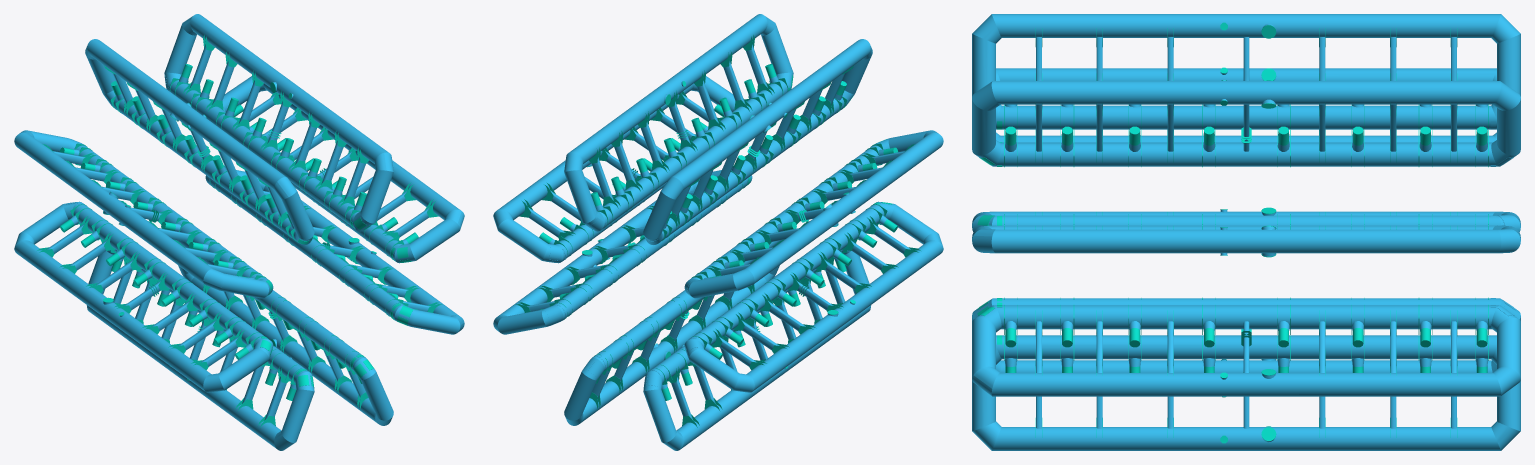
Rendered from barrel_toroid.glb.
3 renders of one model, left to right at view 1: azimuth 30°, elevation 25°; view 2: azimuth 150°, elevation 25°; view 3: azimuth 270°, elevation 25°, orthographic. The views are drawn at different scales.
Visible parts, largest first — view 1: barrel toroid; view 2: barrel toroid; view 3: barrel toroid.
Boxes of the visible parts, x1,y1,x2,y2 form: barrel toroid: (14,14,464,450); barrel toroid: (493,14,943,450); barrel toroid: (972,14,1520,450).
Size of the model in its own units: 18.69 by 18.69 by 25.27.
